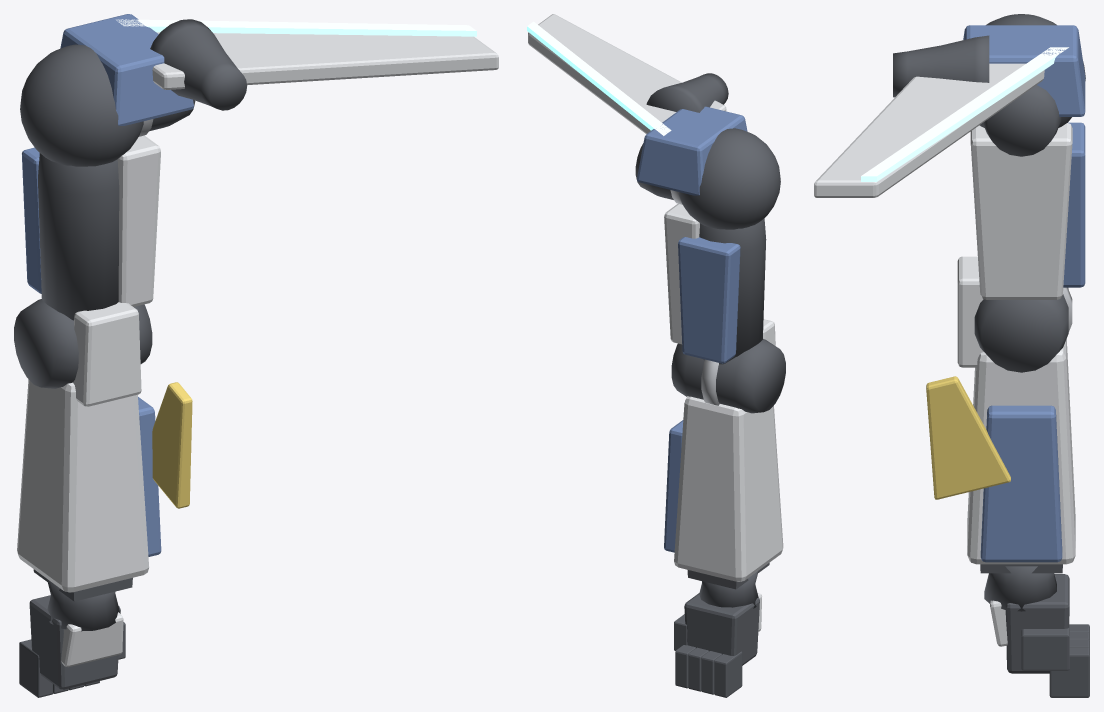
Rendered from arm_fast_r.glb.
3 renders of one model, left to right at view 1: azimuth 30°, elevation 25°; view 2: azimuth 150°, elevation 25°; view 3: azimuth 270°, elevation 25°, orthographic. The views are drawn at different scales.
Visible parts, largest first — view 1: forearm, shoulder_wing, upper_arm, shoulder_joint, pauldron_base, upper_arm_plate, elbow_guard, pauldron_thruster, elbow_cyl, forearm_fin, shoulder_wing_edge, palm (+6 smaller); view 2: forearm, shoulder_joint, upper_arm_front, shoulder_wing, pauldron_base, elbow_cyl, upper_arm, palm, upper_arm_plate, shoulder_wing_edge, pauldron_thruster, forearm_outer (+7 smaller); view 3: upper_arm_plate, forearm_outer, shoulder_wing, forearm, forearm_fin, elbow_cyl, pauldron_base, shoulder_axle, pauldron_thruster, shoulder_wing_edge, upper_arm_front, palm (+7 smaller).
Boxes of the visible parts, left/top/right/bottom form: forearm: left=17, top=379, right=149, bottom=592; shoulder_wing: left=152, top=32, right=498, bottom=89; upper_arm: left=38, top=153, right=119, bottom=320; shoulder_joint: left=20, top=44, right=143, bottom=166; pauldron_base: left=60, top=14, right=193, bottom=125; upper_arm_plate: left=117, top=135, right=160, bottom=306; elbow_guard: left=73, top=302, right=141, bottom=406; pauldron_thruster: left=150, top=19, right=247, bottom=110; elbow_cyl: left=14, top=299, right=152, bottom=388; forearm_fin: left=152, top=382, right=192, bottom=508; shoulder_wing_edge: left=116, top=19, right=476, bottom=36; palm: left=29, top=595, right=120, bottom=689; forearm: left=674, top=396, right=783, bottom=581; shoulder_joint: left=678, top=128, right=780, bottom=229; upper_arm_front: left=678, top=237, right=740, bottom=363; shoulder_wing: left=528, top=14, right=726, bottom=133; pauldron_base: left=637, top=106, right=747, bottom=195; elbow_cyl: left=671, top=339, right=785, bottom=413; upper_arm: left=699, top=218, right=766, bottom=364; palm: left=684, top=593, right=759, bottom=665; upper_arm_plate: left=664, top=203, right=699, bottom=344; shoulder_wing_edge: left=527, top=21, right=671, bottom=135; pauldron_thruster: left=646, top=73, right=728, bottom=112; forearm_outer: left=664, top=420, right=683, bottom=552; upper_arm_plate: left=970, top=123, right=1072, bottom=299; forearm_outer: left=980, top=405, right=1062, bottom=562; shoulder_wing: left=814, top=63, right=1044, bottom=197; forearm: left=967, top=339, right=1075, bottom=564; forearm_fin: left=926, top=376, right=1010, bottom=499; elbow_cyl: left=974, top=288, right=1068, bottom=372; pauldron_base: left=963, top=25, right=1085, bottom=116; shoulder_axle: left=983, top=85, right=1061, bottom=156; pauldron_thruster: left=893, top=35, right=989, bottom=97; shoulder_wing_edge: left=861, top=47, right=1068, bottom=181; upper_arm_front: left=1063, top=122, right=1085, bottom=287; palm: left=1005, top=574, right=1069, bottom=673.
Bounding box in the file's own units: 4.59 × 7.99 × 2.92.
